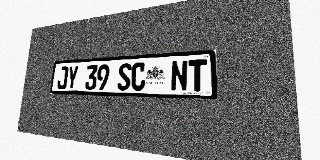3: (85, 65, 98, 90)
9: (96, 64, 110, 90)
C: (131, 62, 146, 91)
J: (57, 66, 69, 89)
N: (170, 60, 188, 91)
S: (117, 63, 132, 90)
T: (188, 59, 207, 92)
Y: (66, 66, 79, 90)
